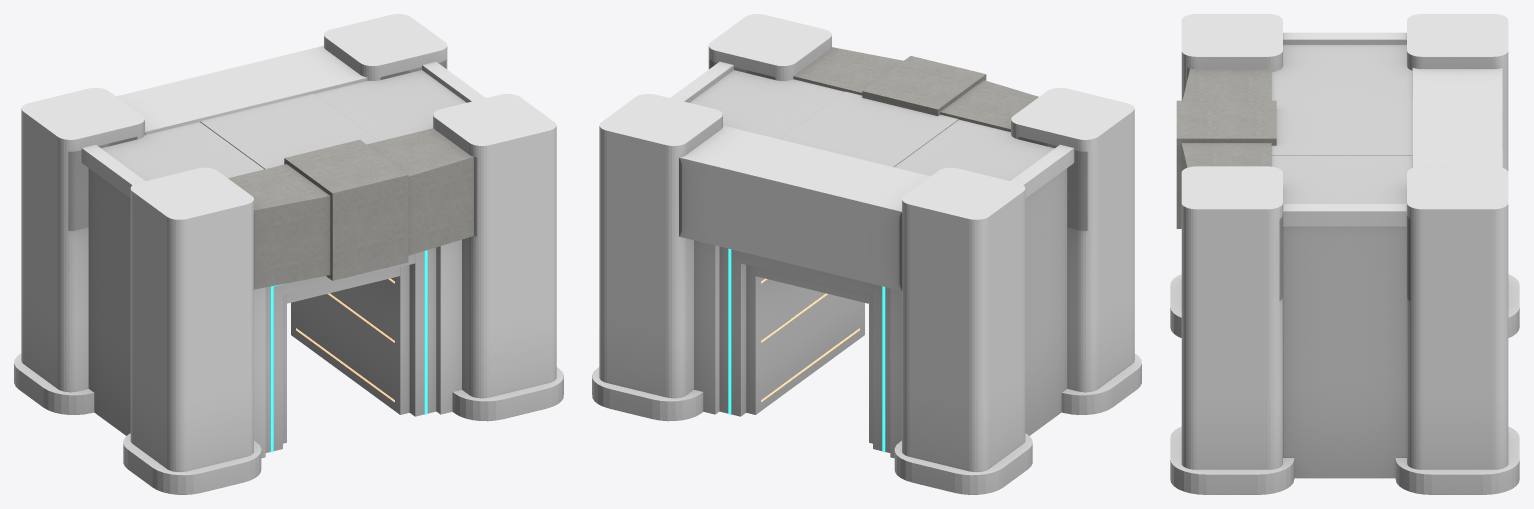
The model's file is respite-gate.glb.
3 renders of one model, left to right at view 1: azimuth 30°, elevation 25°; view 2: azimuth 150°, elevation 25°; view 3: azimuth 270°, elevation 25°, orthographic. The views are drawn at different scales.
Visible parts, largest first — view 1: facade-tower-L, core-wall-L, facade-belt-F, facade-belt-B, face-tower-base-L, core-roof, arch-inner-L, arch-outer-L, facade-join-L, arch-inner-cutout-L, arch-inner-T; view 2: facade-tower-L, core-wall-L, facade-belt-B, facade-belt-F, face-tower-base-L, core-roof, arch-inner-L, arch-outer-L, facade-join-L, arch-inner-T, arch-inner-cutout-L; view 3: facade-tower-L, core-wall-L, facade-belt-F, facade-belt-B, face-tower-base-L, core-roof, facade-join-L.
Boxes of the visible parts, x1=… form: facade-tower-L: x1=21, y1=14, x2=556, y2=471; core-wall-L: x1=88, y1=70, x2=466, y2=443; facade-belt-F: x1=228, y1=128, x2=473, y2=289; facade-belt-B: x1=116, y1=45, x2=367, y2=134; face-tower-base-L: x1=14, y1=353, x2=563, y2=494; core-roof: x1=200, y1=93, x2=400, y2=303; arch-inner-L: x1=265, y1=247, x2=436, y2=452; arch-outer-L: x1=254, y1=239, x2=461, y2=458; facade-join-L: x1=81, y1=61, x2=485, y2=198; arch-inner-cutout-L: x1=270, y1=250, x2=427, y2=451; arch-inner-T: x1=283, y1=254, x2=415, y2=295; facade-tower-L: x1=599, y1=14, x2=1134, y2=471; core-wall-L: x1=689, y1=70, x2=1067, y2=443; facade-belt-B: x1=679, y1=125, x2=930, y2=290; facade-belt-F: x1=793, y1=47, x2=1038, y2=131; face-tower-base-L: x1=592, y1=353, x2=1141, y2=494; core-roof: x1=755, y1=91, x2=958, y2=303; arch-inner-L: x1=719, y1=246, x2=890, y2=452; arch-outer-L: x1=694, y1=240, x2=901, y2=458; facade-join-L: x1=670, y1=61, x2=1074, y2=198; arch-inner-T: x1=740, y1=252, x2=872, y2=295; arch-inner-cutout-L: x1=728, y1=248, x2=885, y2=451; facade-tower-L: x1=1181, y1=14, x2=1508, y2=469; core-wall-L: x1=1271, y1=44, x2=1412, y2=478; facade-belt-F: x1=1176, y1=68, x2=1276, y2=228; facade-belt-B: x1=1412, y1=68, x2=1502, y2=167; face-tower-base-L: x1=1170, y1=274, x2=1519, y2=494; core-roof: x1=1271, y1=98, x2=1412, y2=155; facade-join-L: x1=1283, y1=32, x2=1406, y2=226.
Bounding box in the file's own units: 43 × 27.5 × 31.
13 materials, 11 textured.
